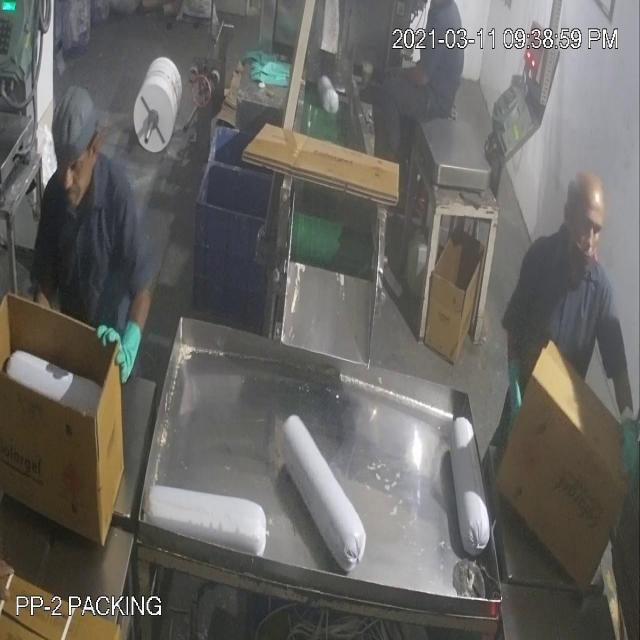Gloves: (27, 82, 626, 442)
